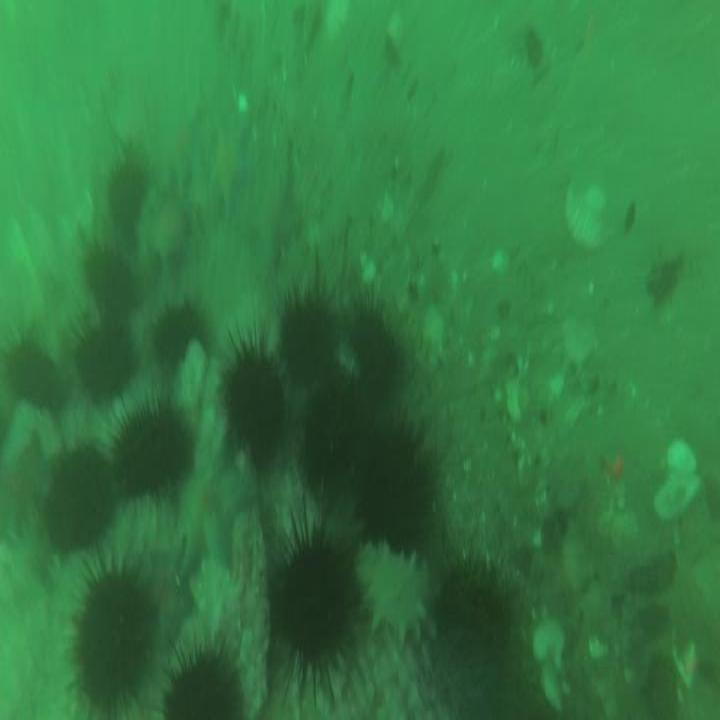echinus: (273, 533, 348, 667), (77, 576, 149, 708), (305, 363, 374, 480), (363, 419, 429, 540), (113, 409, 196, 496), (44, 454, 111, 556), (228, 348, 284, 463), (440, 555, 505, 645), (166, 652, 239, 720), (278, 298, 333, 388), (74, 332, 136, 400), (351, 302, 398, 386), (83, 244, 135, 318), (9, 345, 60, 405), (152, 300, 199, 364), (105, 155, 146, 224)
holothurian: (354, 540, 433, 644)
scallop: (564, 182, 613, 254)
starfish: (179, 462, 248, 574), (148, 185, 198, 284), (212, 134, 252, 214)
